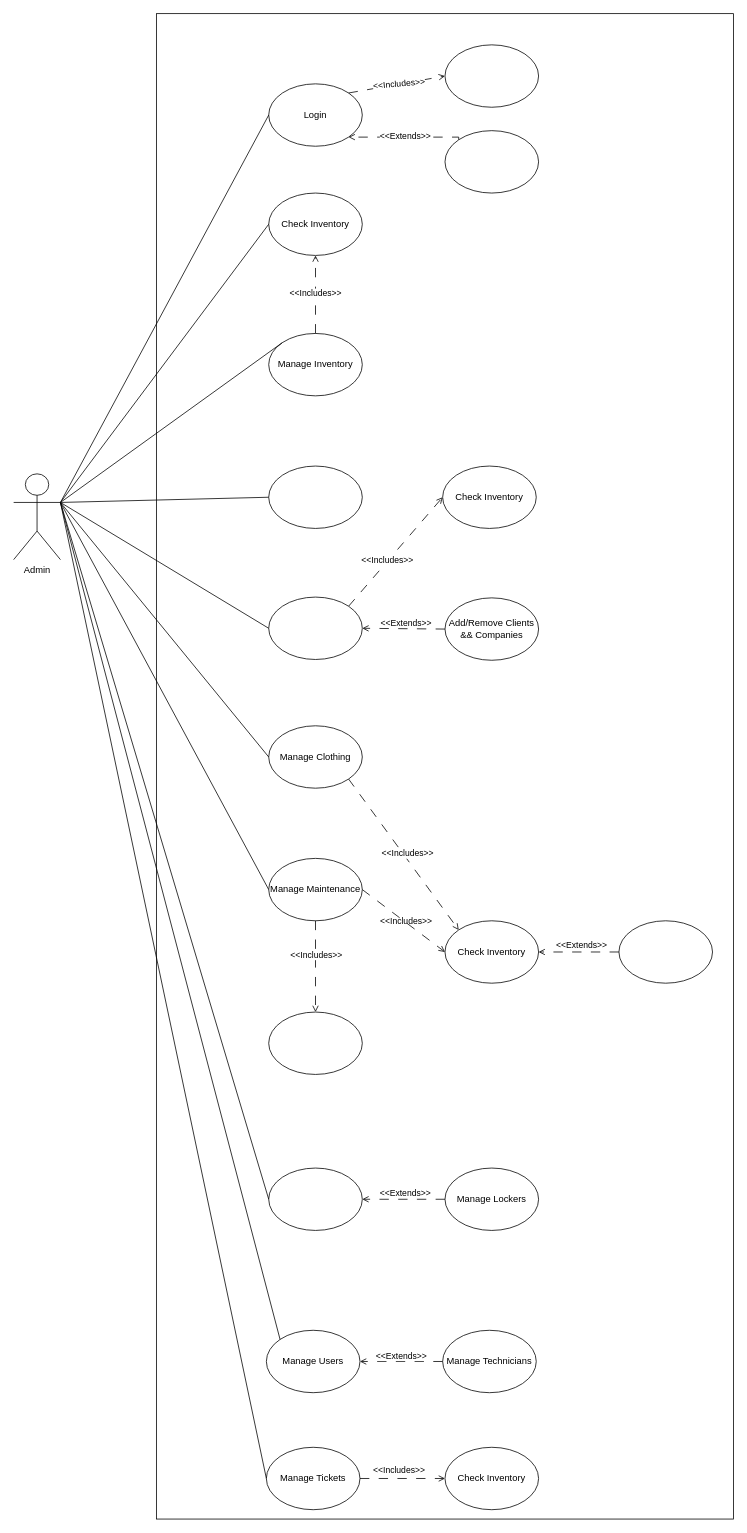
This 747x1533 diagram has some shape labels left out. The centre of each missing label's shape, as x and y in pixels:
"Buy Material" belongs at point (665, 951).
"Close Ticket" belongs at point (315, 1042).
"Login Error" belongs at point (491, 161).
"Manage External Courses" belongs at point (315, 627).
"Manage Students" belongs at point (315, 1198).
"Password Verification" belongs at point (491, 75).
"Schedule Courses" belongs at point (315, 496).
